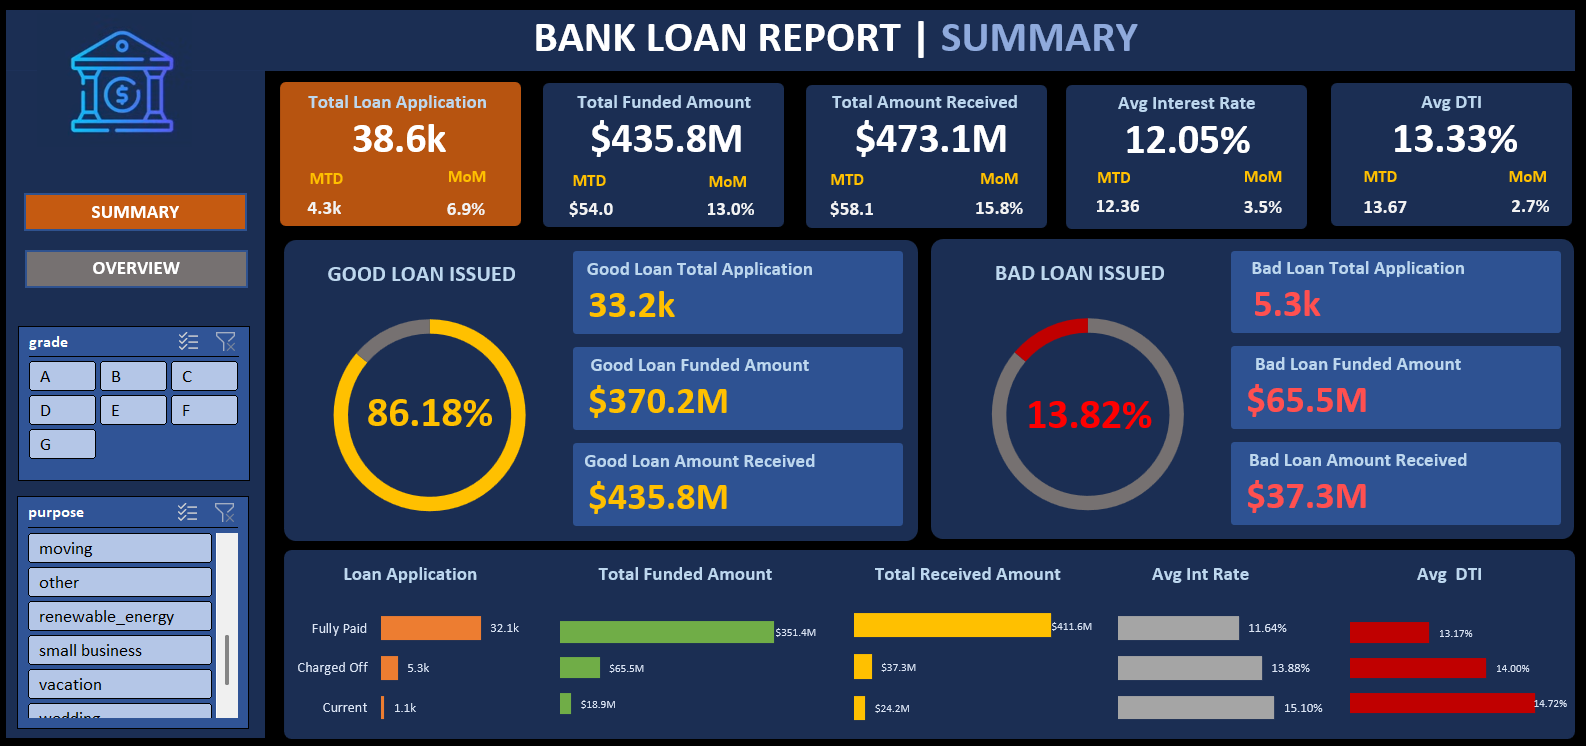

Layout of this report page (visuals, bound fields, positions):
{"tool":"powerbi","page":{"name":"Summary","canvas":[1280,720],"ordinal":0},"visuals":[{"type":"shape","box":[206.3,76,195.4,117],"z":0,"group":"g1"},{"type":"shape","box":[422,76,195.4,117],"z":0,"group":"g2"},{"type":"shape","box":[637.6,76,195.4,117],"z":0,"group":"g3"},{"type":"shape","box":[853.3,76,195.4,117],"z":0,"group":"g4"},{"type":"shape","box":[1068.9,76,195.4,117],"z":0,"group":"g5"},{"type":"shape","box":[206.3,212.3,522.4,260.6],"z":0},{"type":"card","fields":{"Values":["DAX Measures.Total Loan Application"]},"box":[206.3,92.9,195.4,59.1],"z":1000,"group":"g1"},{"type":"card","fields":{"Values":["DAX Measures.Total Funded Amount"]},"box":[422,92.9,195.4,59.1],"z":1000,"group":"g2"},{"type":"card","fields":{"Values":["DAX Measures.Total Amount Received"]},"box":[637.6,92.9,195.4,59.1],"z":1000,"group":"g3"},{"type":"card","fields":{"Values":["DAX Measures.Average Interest Rate"]},"box":[853.3,92.9,195.4,59.1],"z":1000,"group":"g4"},{"type":"card","fields":{"Values":["DAX Measures.Average DTI"]},"box":[1068.9,92.9,195.4,59.1],"z":1000,"group":"g5"},{"type":"donutChart","fields":{"Category":["bank_loan_data.Good v/s Bad Loan"],"Y":["DAX Measures.Total Loan Application"]},"box":[209.9,243.7,249.7,230.4],"z":1000},{"type":"shape","box":[0,0,1280,59.1],"z":2000},{"type":"textbox","box":[206.3,76,195.4,33.8],"z":2000,"group":"g1"},{"type":"textbox","box":[422,76,195.4,33.8],"z":2000,"group":"g2"},{"type":"textbox","box":[637.6,76,195.4,33.8],"z":2000,"group":"g3"},{"type":"textbox","box":[853.3,76,195.4,33.8],"z":2000,"group":"g4"},{"type":"textbox","box":[1068.9,76,195.4,33.8],"z":2000,"group":"g5"},{"type":"card","title":"MTD","fields":{"Values":["DAX Measures.MTD Loan Application"]},"box":[206.3,143.6,76,49.5],"z":3000,"group":"g1"},{"type":"card","title":"MTD","fields":{"Values":["DAX Measures.MTD Funded Amount"]},"box":[422,143.6,76,49.5],"z":3000,"group":"g2"},{"type":"card","title":"MTD","fields":{"Values":["DAX Measures.MTD Total Amount Received"]},"box":[637.6,143.6,76,49.5],"z":3000,"group":"g3"},{"type":"card","title":"MTD","fields":{"Values":["DAX Measures.MTD Avg Int Rate"]},"box":[853.3,143.6,76,49.5],"z":3000,"group":"g4"},{"type":"card","title":"MTD","fields":{"Values":["DAX Measures.MTD Avg DTI"]},"box":[1068.9,143.6,76,49.5],"z":3000,"group":"g5"},{"type":"textbox","box":[230.4,226.8,195.4,33.8],"z":3000},{"type":"shape","box":[0,59.1,192,661.1],"z":4000},{"type":"card","title":"MoM","fields":{"Values":["DAX Measures.MoM Loan Application"]},"box":[328.2,143.6,73.6,49.5],"z":4000,"group":"g1"},{"type":"card","title":"MoM","fields":{"Values":["DAX Measures.MoM Funded Amount"]},"box":[543.9,143.6,73.6,49.5],"z":4000,"group":"g2"},{"type":"card","title":"MoM","fields":{"Values":["DAX Measures.MoM Total Amount Received"]},"box":[759.5,143.6,73.6,49.5],"z":4000,"group":"g3"},{"type":"card","title":"MoM","fields":{"Values":["DAX Measures.MoM Avg Int Rate"]},"box":[975.2,143.6,73.6,49.5],"z":4000,"group":"g4"},{"type":"card","title":"MoM","fields":{"Values":["DAX Measures.MoM AVG DTI"]},"box":[1190.8,143.6,73.6,49.5],"z":4000,"group":"g5"},{"type":"card","fields":{"Values":["DAX Measures.Good Loan %"]},"box":[275.1,330.6,119.4,59.1],"z":5000},{"type":"textbox","box":[415,3.6,448.8,50.7],"z":6000},{"type":"group","id":"g1","title":"Group 1","box":[206.3,76,195.4,117],"z":7000},{"type":"group","id":"g2","title":"Group 1","box":[422,76,195.4,117],"z":8000},{"type":"group","id":"g3","title":"Group 1","box":[637.6,76,195.4,117],"z":9000},{"type":"group","id":"g4","title":"Group 1","box":[853.3,76,195.4,117],"z":10000},{"type":"group","id":"g5","title":"Group 1","box":[1068.9,76,195.4,117],"z":11000},{"type":"shape","box":[742,212.3,522.4,260.6],"z":12000},{"type":"cardVisual","fields":{"Data":["DAX Measures.Good Loan Application","DAX Measures.Good Loan Funded Amount","DAX Measures.Good Loan Received Amount"]},"box":[468.1,212.3,260.6,261.8],"z":13000},{"type":"donutChart","fields":{"Category":["bank_loan_data.Good v/s Bad Loan"],"Y":["DAX Measures.Total Loan Application"]},"box":[742,242.5,249.7,230.4],"z":14000},{"type":"shape","box":[0,58.9,192,661.1],"z":15000},{"type":"shape","box":[206.3,486.2,1058,224.4],"z":16000},{"type":"cardVisual","fields":{"Data":["DAX Measures.Bad Loan Application","DAX Measures.Bad Loan Funded Amount","DAX Measures.Bad Loan Received Amount"]},"box":[1003.8,213.5,260.6,261.8],"z":17000},{"type":"textbox","box":[769.7,226.8,195.4,33.8],"z":18000},{"type":"card","fields":{"Values":["DAX Measures.Bad Loan %"]},"box":[809.5,328.2,119.4,59.1],"z":19000},{"type":"tableEx","fields":{"Values":["bank_loan_data.loan_status","DAX Measures.Total Loan Application","DAX Measures.Total Funded Amount","DAX Measures.Total Amount Received","DAX Measures.MTD Funded Amount","DAX Measures.MTD Total Amount Received","DAX Measures.Average Interest Rate","DAX Measures.Average DTI"]},"box":[218.4,534.5,1037.5,167.7],"z":20000},{"type":"textbox","box":[218.4,500.7,187,33.8],"z":21000},{"type":"slicer","fields":{"Values":["bank_loan_data.address_state"]},"box":[8.4,423.5,174.9,49.5],"z":22000},{"type":"textbox","box":[8.4,387.3,88.1,33.8],"z":23000},{"type":"slicer","fields":{"Values":["bank_loan_data.grade"]},"box":[8.4,517.6,174.9,49.5],"z":24000},{"type":"textbox","box":[8.4,483.8,88.1,33.8],"z":25000},{"type":"slicer","fields":{"Values":["bank_loan_data.purpose"]},"box":[8.4,618.9,174.9,49.5],"z":26000},{"type":"textbox","box":[8.4,585.1,88.1,33.8],"z":27000},{"type":"pageNavigator","box":[8.4,176.1,174.9,184.6],"z":27001},{"type":"image","box":[0,0,183.4,143.6],"z":27002}]}

Visuals, with their boxes on the page's 1280x720 design canvas (x1, y1, x2, y2). These are canvas units, not pixel positions in the 1586x746 screenshot, which may show the page scaled, cropped or inside an application window:
shape: select_region(206, 76, 402, 193)
shape: select_region(422, 76, 617, 193)
shape: select_region(638, 76, 833, 193)
shape: select_region(853, 76, 1049, 193)
shape: select_region(1069, 76, 1264, 193)
shape: select_region(206, 212, 729, 473)
card - DAX Measures.Total Loan Application: select_region(206, 93, 402, 152)
card - DAX Measures.Total Funded Amount: select_region(422, 93, 617, 152)
card - DAX Measures.Total Amount Received: select_region(638, 93, 833, 152)
card - DAX Measures.Average Interest Rate: select_region(853, 93, 1049, 152)
card - DAX Measures.Average DTI: select_region(1069, 93, 1264, 152)
donutChart - bank_loan_data.Good v/s Bad Loan x DAX Measures.Total Loan Application: select_region(210, 244, 460, 474)
shape: select_region(0, 0, 1280, 59)
textbox: select_region(206, 76, 402, 110)
textbox: select_region(422, 76, 617, 110)
textbox: select_region(638, 76, 833, 110)
textbox: select_region(853, 76, 1049, 110)
textbox: select_region(1069, 76, 1264, 110)
"MTD" card: select_region(206, 144, 282, 193)
"MTD" card: select_region(422, 144, 498, 193)
"MTD" card: select_region(638, 144, 714, 193)
"MTD" card: select_region(853, 144, 929, 193)
"MTD" card: select_region(1069, 144, 1145, 193)
textbox: select_region(230, 227, 426, 261)
shape: select_region(0, 59, 192, 720)
"MoM" card: select_region(328, 144, 402, 193)
"MoM" card: select_region(544, 144, 618, 193)
"MoM" card: select_region(760, 144, 833, 193)
"MoM" card: select_region(975, 144, 1049, 193)
"MoM" card: select_region(1191, 144, 1264, 193)
card - DAX Measures.Good Loan %: select_region(275, 331, 394, 390)
textbox: select_region(415, 4, 864, 54)
"Group 1" group: select_region(206, 76, 402, 193)
"Group 1" group: select_region(422, 76, 617, 193)
"Group 1" group: select_region(638, 76, 833, 193)
"Group 1" group: select_region(853, 76, 1049, 193)
"Group 1" group: select_region(1069, 76, 1264, 193)
shape: select_region(742, 212, 1264, 473)
cardVisual - DAX Measures.Good Loan Application x DAX Measures.Good Loan Funded Amount: select_region(468, 212, 729, 474)
donutChart - bank_loan_data.Good v/s Bad Loan x DAX Measures.Total Loan Application: select_region(742, 242, 992, 473)
shape: select_region(0, 59, 192, 720)
shape: select_region(206, 486, 1264, 711)
cardVisual - DAX Measures.Bad Loan Application x DAX Measures.Bad Loan Funded Amount: select_region(1004, 214, 1264, 475)
textbox: select_region(770, 227, 965, 261)
card - DAX Measures.Bad Loan %: select_region(810, 328, 929, 387)
tableEx - bank_loan_data.loan_status x DAX Measures.Total Loan Application: select_region(218, 534, 1256, 702)
textbox: select_region(218, 501, 405, 534)
slicer - bank_loan_data.address_state: select_region(8, 424, 183, 473)
textbox: select_region(8, 387, 96, 421)
slicer - bank_loan_data.grade: select_region(8, 518, 183, 567)
textbox: select_region(8, 484, 96, 518)
slicer - bank_loan_data.purpose: select_region(8, 619, 183, 668)
textbox: select_region(8, 585, 96, 619)
pageNavigator: select_region(8, 176, 183, 361)
image: select_region(0, 0, 183, 144)
